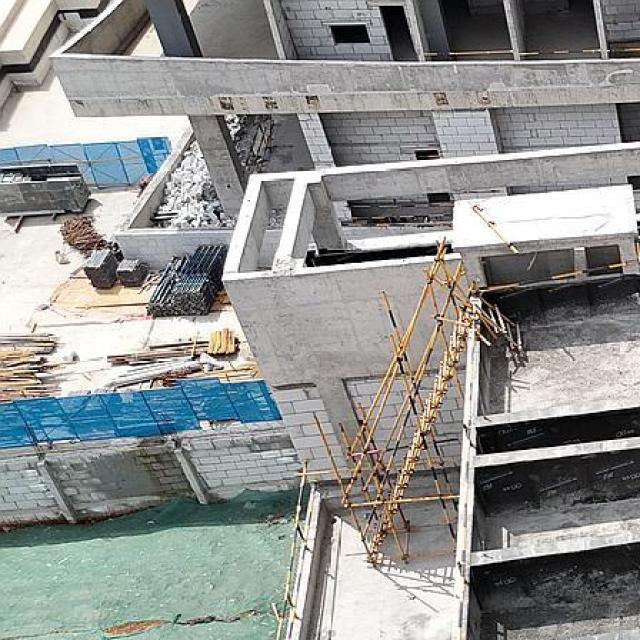edge_guardrail: (274, 461, 316, 640), (455, 305, 477, 640), (479, 262, 630, 294), (348, 203, 453, 220), (244, 114, 269, 173), (518, 47, 602, 57), (424, 49, 514, 57), (605, 48, 640, 52)
